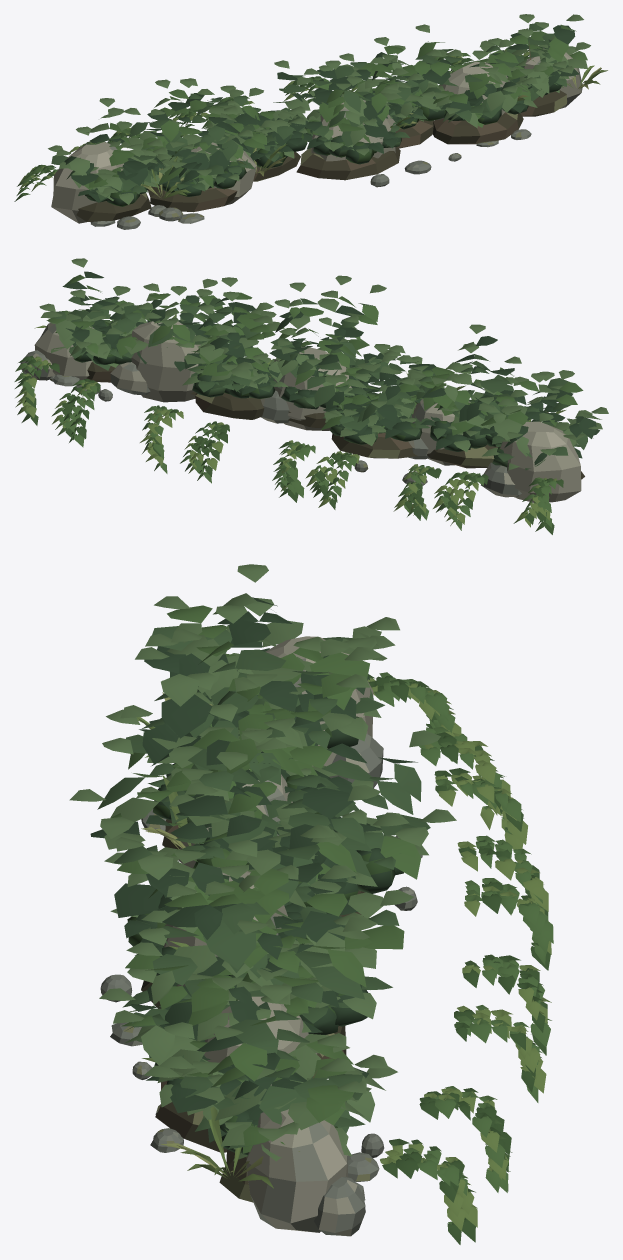
Rendered from planting.glb.
3 views of the same model, one above another, from view 1: azimuth 30°, elevation 25°; view 2: azimuth 150°, elevation 25°; view 3: azimuth 270°, elevation 25° (orthographic). The views are drawn at different scales.
Visible parts, largest first — view 1: GoToPlazaPlanting; view 2: GoToPlazaPlanting; view 3: GoToPlazaPlanting.
Boxes of the visible parts, <box> form: GoToPlazaPlanting: <box>14,14,607,229</box>; GoToPlazaPlanting: <box>14,258,608,534</box>; GoToPlazaPlanting: <box>69,564,553,1244</box>.
Bounding box in the file's own units: 6.28 × 1.4 × 2.42.
